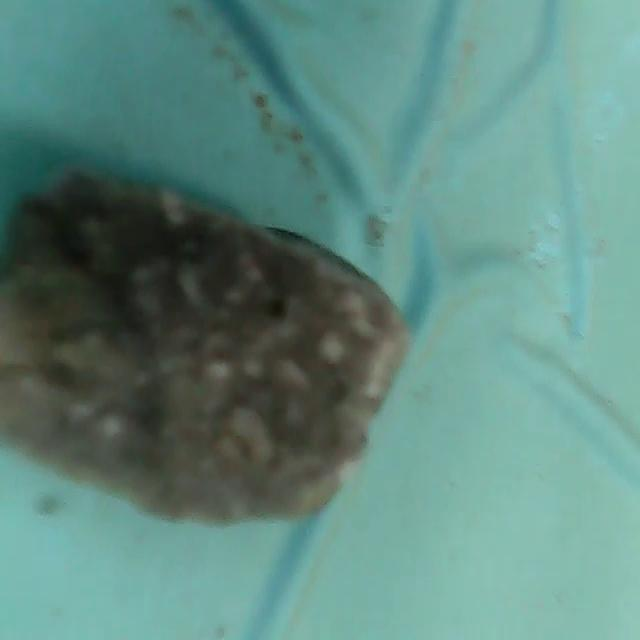rock: (0, 160, 420, 538)
